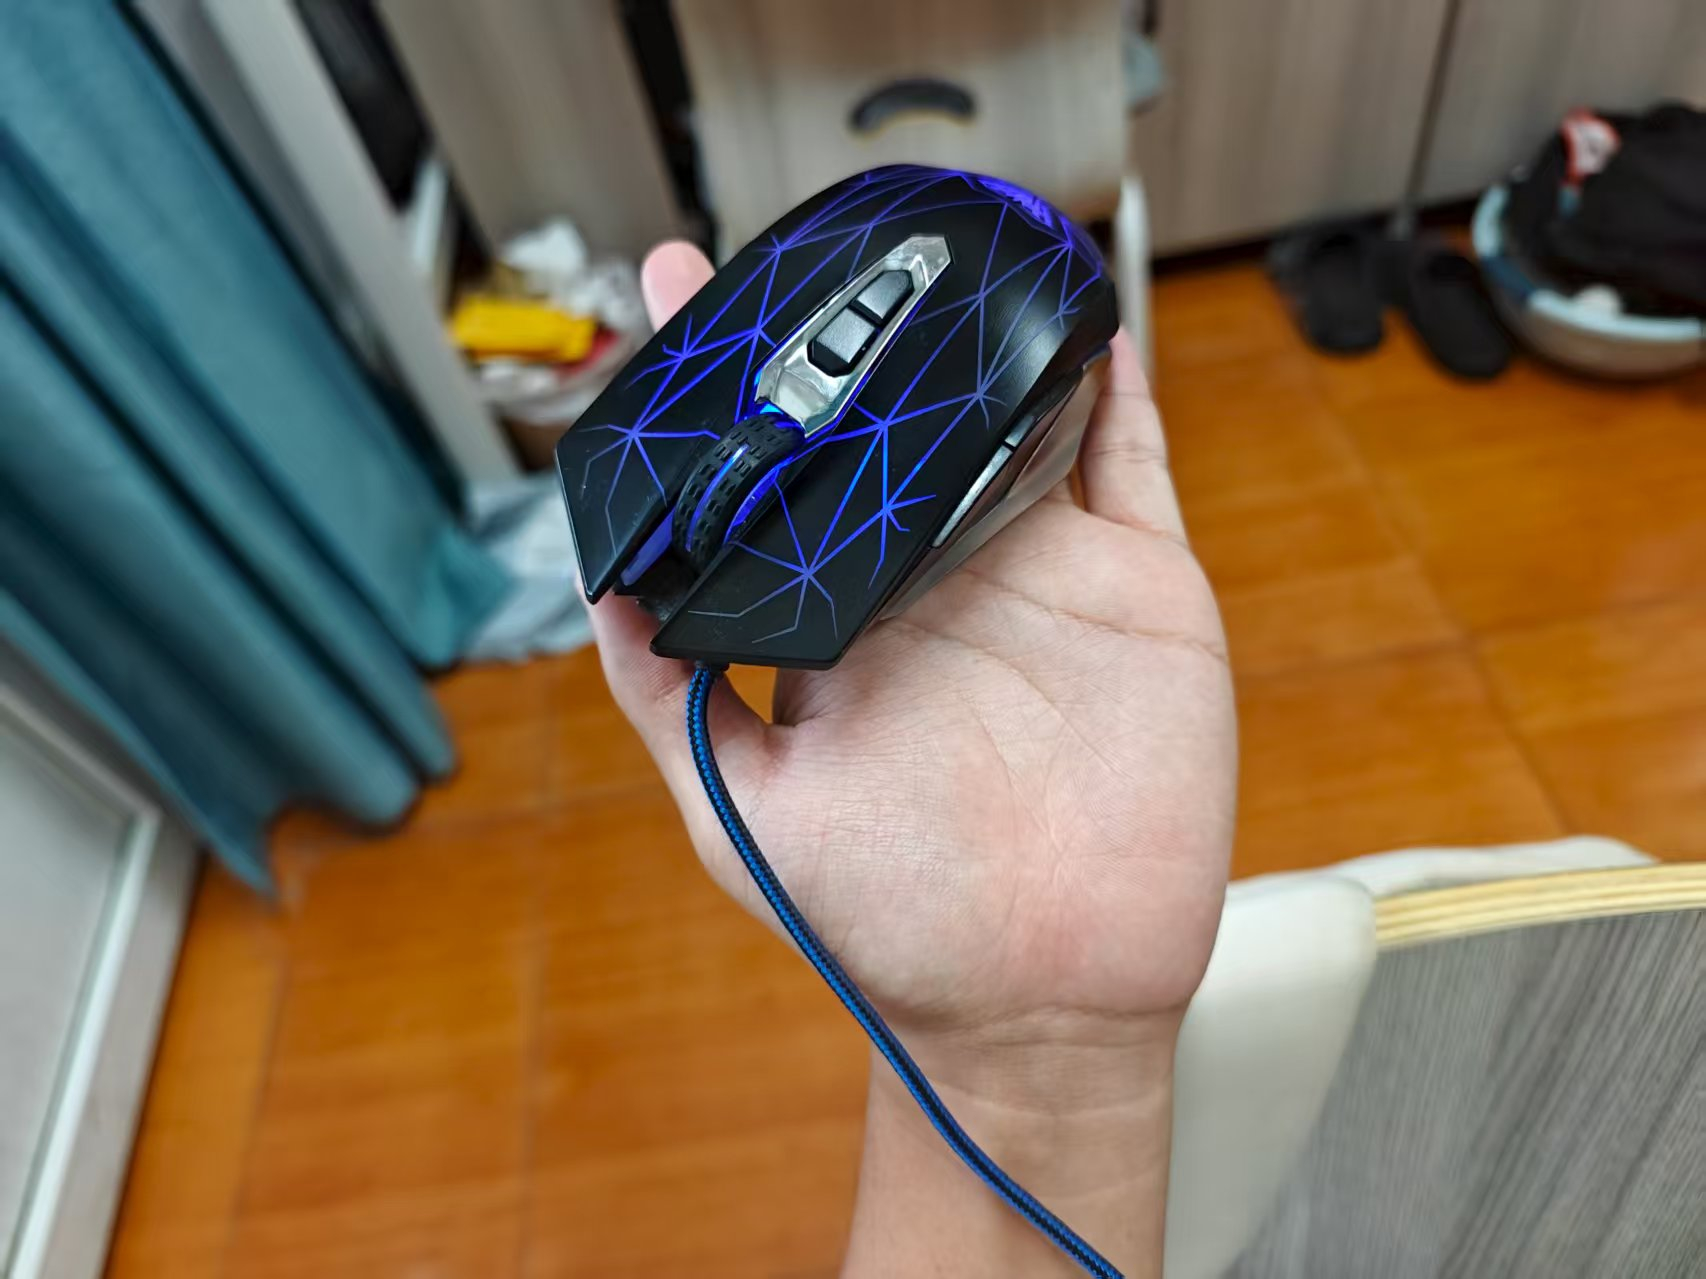mouse: (465, 155, 1123, 670)
